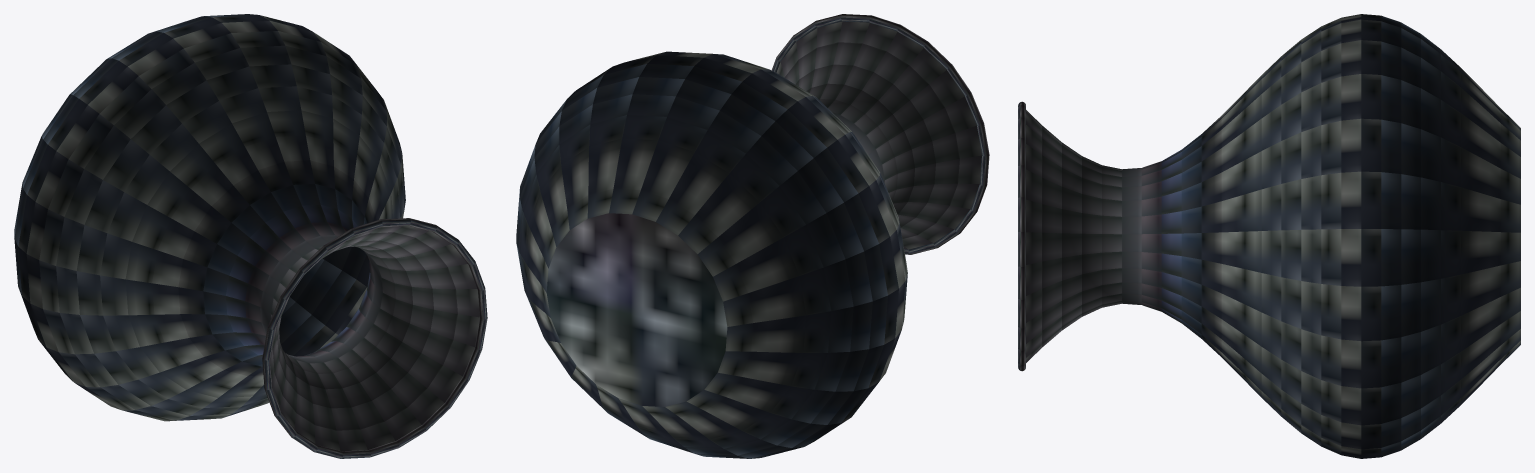
The model's file is model_align.obj.
3 renders of one model, left to right at view 1: azimuth 30°, elevation 25°; view 2: azimuth 150°, elevation 25°; view 3: azimuth 270°, elevation 25°, orthographic. The views are drawn at different scales.
Parts seen in each view (by area): view 1: mesh1_mesh1-geometry, mesh2_mesh2-geometry; view 2: mesh1_mesh1-geometry, mesh2_mesh2-geometry; view 3: mesh1_mesh1-geometry, mesh2_mesh2-geometry.
Part boxes in pixels (x1,y1,x2,y2): mesh1_mesh1-geometry: (14, 14, 479, 451); mesh2_mesh2-geometry: (262, 218, 487, 458); mesh1_mesh1-geometry: (516, 21, 981, 458); mesh2_mesh2-geometry: (771, 14, 989, 254); mesh1_mesh1-geometry: (1026, 14, 1520, 458); mesh2_mesh2-geometry: (1018, 101, 1025, 371).
Size of the model in its own units: 0.1563 by 0.1563 by 0.1767.
1 material, 1 textured.
